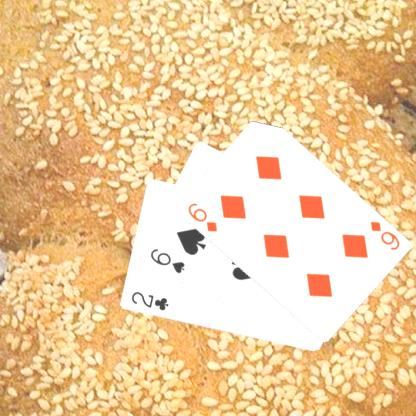2C: (128, 289, 170, 313)
6D: (184, 200, 218, 233), (367, 218, 401, 251)
6S: (147, 246, 186, 275)
